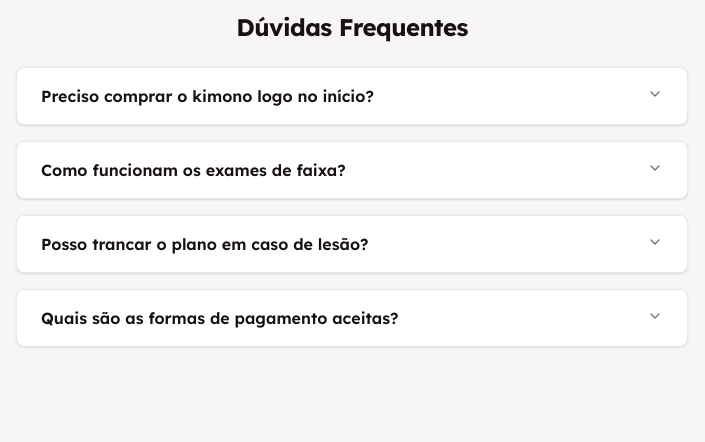
Test: PlansFaq › two items can be open simultaneously (type=multiple)
The image size is (705, 442).
Click the button "Preciso comprar o kimono logo no início?".
click(352, 96)  # box [41, 68, 663, 124]
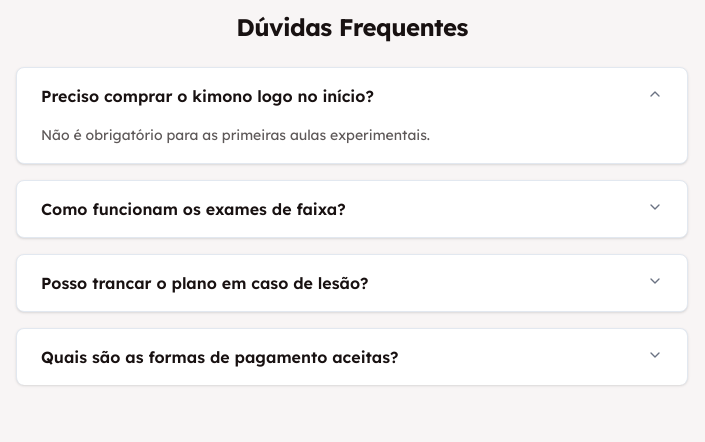
Click the button "Como funcionam os exames de faixa?".
click(193, 209)  # box [41, 181, 663, 237]
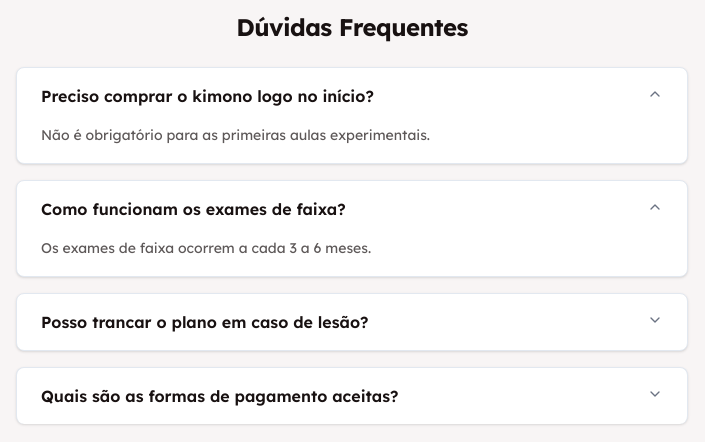
Result: the text "Não é obrigatório para as primeiras aulas experimentais." is shown at [41, 126, 430, 144]
Result: the text "Os exames de faixa ocorrem a cada 3 a 6 meses." is shown at [41, 239, 371, 257]
